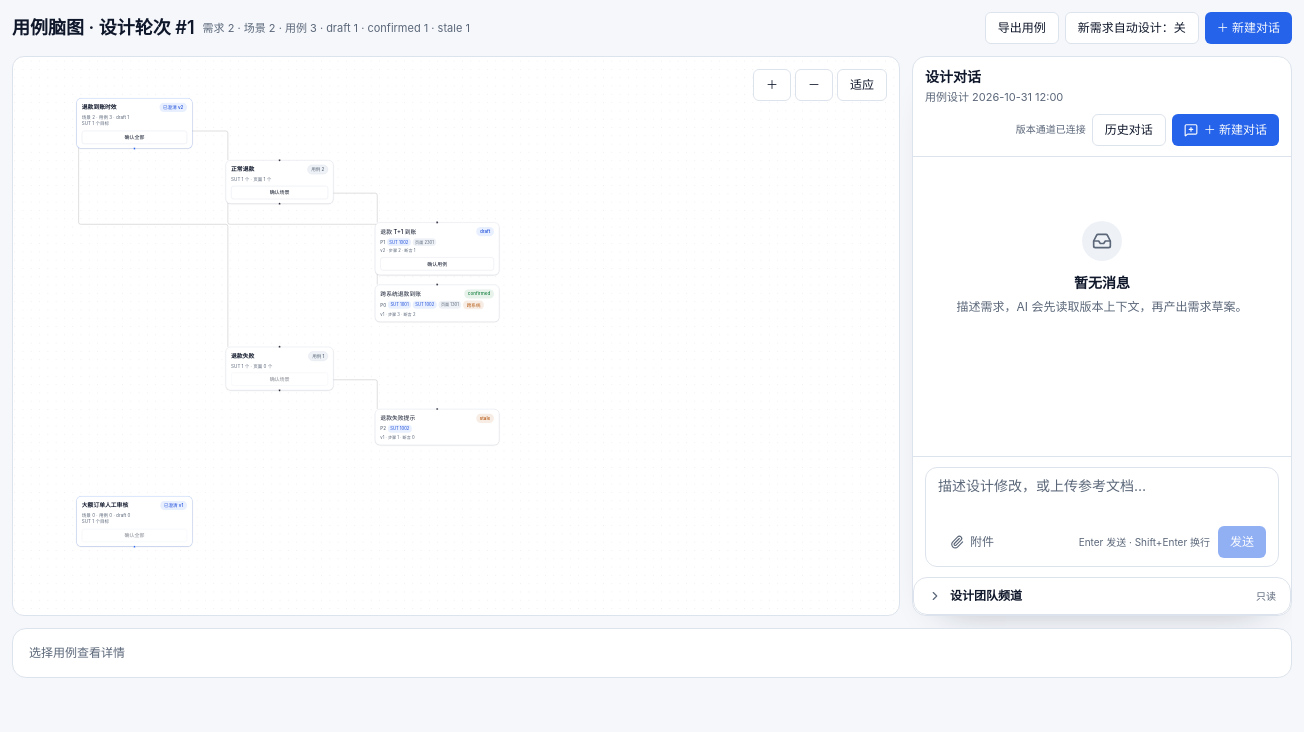
DesignTab › shows a 409 confirmation error inline
Click the button with test id "btn-confirm-requirement-6001" at (134, 137), box [82,131,187,144]
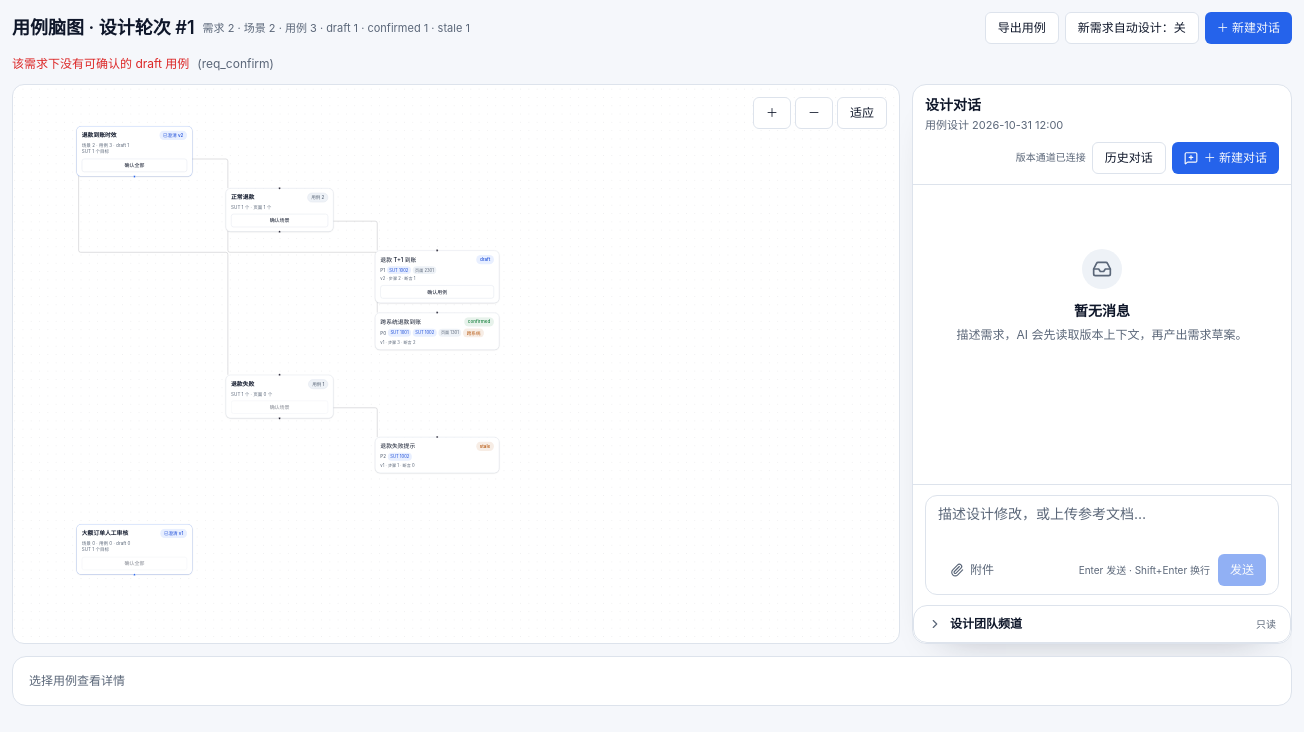
Check: the text "该需求下没有可确认的 draft 用例" is shown, box [12,56,189,71]
